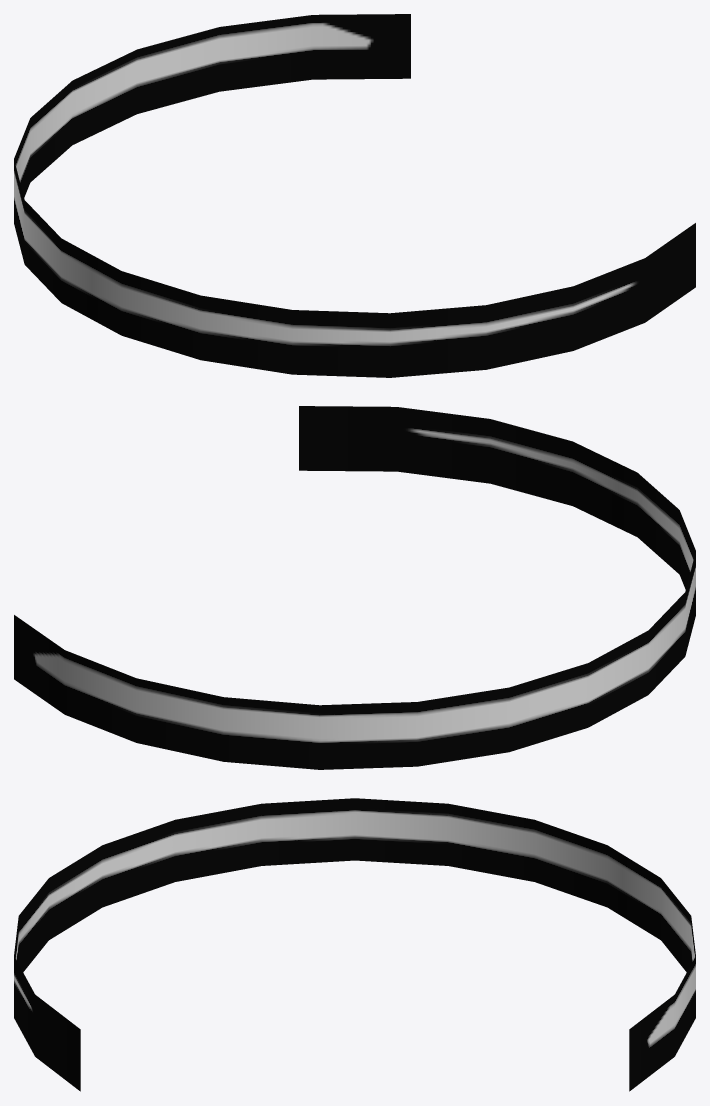
The model's file is SM_line_Round_5.fbx.
The picture shows the model from 3 angles, top to bottom: view 1: azimuth 30°, elevation 25°; view 2: azimuth 150°, elevation 25°; view 3: azimuth 270°, elevation 25°; orthographic projection. The views are drawn at different scales.
Parts seen in each view (by area): view 1: SM_line_Round_5; view 2: SM_line_Round_5; view 3: SM_line_Round_5.
Boxes of the visible parts, x1=… form: SM_line_Round_5: x1=14, y1=14, x2=695, y2=377; SM_line_Round_5: x1=14, y1=406, x2=695, y2=769; SM_line_Round_5: x1=14, y1=798, x2=695, y2=1091.
Bounding box in the file's own units: 121 × 15.23 × 151.
